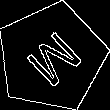M_SE: (17, 23, 86, 91)
